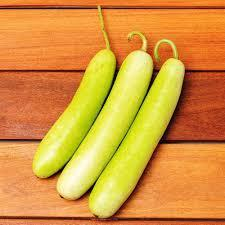bottle gourd: (87, 37, 185, 218), (55, 30, 154, 200), (31, 4, 116, 178)
